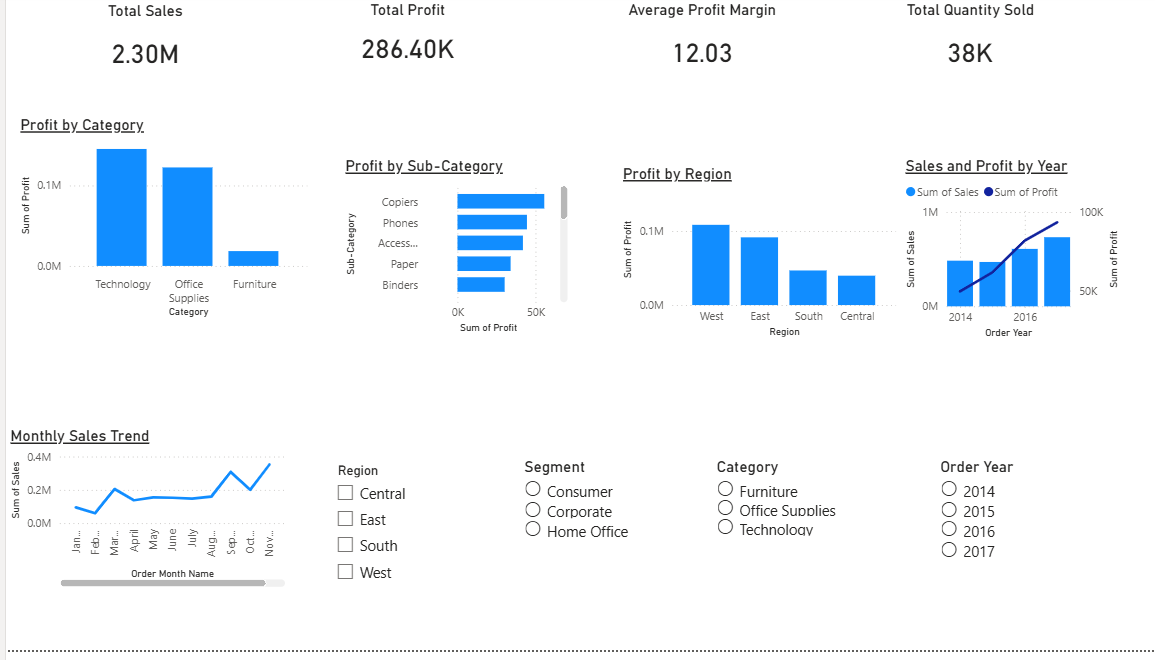

What the dashboard file says about the page in this screenshot:
{"tool":"powerbi","page":{"name":"Page 1","canvas":[1280,720],"ordinal":0},"visuals":[{"type":"card","title":"Total Sales","fields":{"Values":["Sum(superstore_cleaned.Sales)"]},"box":[11,8.2,284,91.9],"z":0},{"type":"card","title":"Total Profit","fields":{"Values":["Sum(superstore_cleaned.Profit)"]},"box":[308.7,6.9,264.8,85.1],"z":1000},{"type":"card","title":"Average Profit Margin","fields":{"Values":["superstore_cleaned.Average Profit Margin"]},"box":[639.5,6.9,249.7,91.9],"z":2000},{"type":"card","title":"Total Quantity Sold","fields":{"Values":["Sum(superstore_cleaned.Quantity)"]},"box":[901.5,6.9,314.2,91.9],"z":3000},{"type":"clusteredColumnChart","title":"Profit by Category","fields":{"Category":["superstore_cleaned.Category"],"Y":["Sum(superstore_cleaned.Profit)"]},"box":[11,133.1,325.2,226.4],"z":4000},{"type":"clusteredBarChart","title":"Profit by Sub-Category","fields":{"Category":["superstore_cleaned.Sub-Category"],"Y":["Sum(superstore_cleaned.Profit)"]},"box":[367.8,178.4,253.9,199],"z":5000},{"type":"clusteredColumnChart","title":"Profit by Region","fields":{"Category":["superstore_cleaned.Region"],"Y":["Sum(superstore_cleaned.Profit)"]},"box":[672.4,186.6,310.1,194.9],"z":5001},{"type":"lineStackedColumnComboChart","title":"Sales and Profit by  Year","fields":{"Category":["superstore_cleaned.Order Year"],"Y":["Sum(superstore_cleaned.Sales)"],"Y2":["Sum(superstore_cleaned.Profit)"]},"box":[982.5,178.4,245.6,204.5],"z":5002},{"type":"lineChart","title":" Monthly Sales Trend ","fields":{"Category":["superstore_cleaned.Order Month Name"],"Y":["Sum(superstore_cleaned.Sales)"]},"box":[0,474.8,311.5,181.1],"z":5003},{"type":"slicer","fields":{"Values":["superstore_cleaned.Region"]},"box":[351.3,509.1,240.1,183.9],"z":5004},{"type":"listSlicer","fields":{"Values":["superstore_cleaned.Category"]},"box":[775.3,509.1,207.2,201.7],"z":5005},{"type":"listSlicer","fields":{"Values":["superstore_cleaned.Segment"]},"box":[564,509.1,149.6,211.3],"z":5006},{"type":"listSlicer","title":"Order Year","fields":{"Values":["superstore_cleaned.Order Year"]},"box":[1020.9,509.1,259.3,211.3],"z":5007}]}

Visuals, with their boxes in screenshot pixels (x1, y1, x2, y2), scaled from the page's 1280x720 canvas onto the 1155x660 screenshot:
"Total Sales" card: 10 8 266 92
"Total Profit" card: 279 6 517 84
"Average Profit Margin" card: 577 6 802 91
"Total Quantity Sold" card: 813 6 1097 91
"Profit by Category" clusteredColumnChart: 10 122 303 330
"Profit by Sub-Category" clusteredBarChart: 332 164 561 346
"Profit by Region" clusteredColumnChart: 607 171 887 350
"Sales and Profit by  Year" lineStackedColumnComboChart: 887 164 1108 351
" Monthly Sales Trend " lineChart: 0 435 281 601
slicer - superstore_cleaned.Region: 317 467 534 635
listSlicer - superstore_cleaned.Category: 700 467 887 652
listSlicer - superstore_cleaned.Segment: 509 467 644 659
"Order Year" listSlicer: 921 467 1154 659
